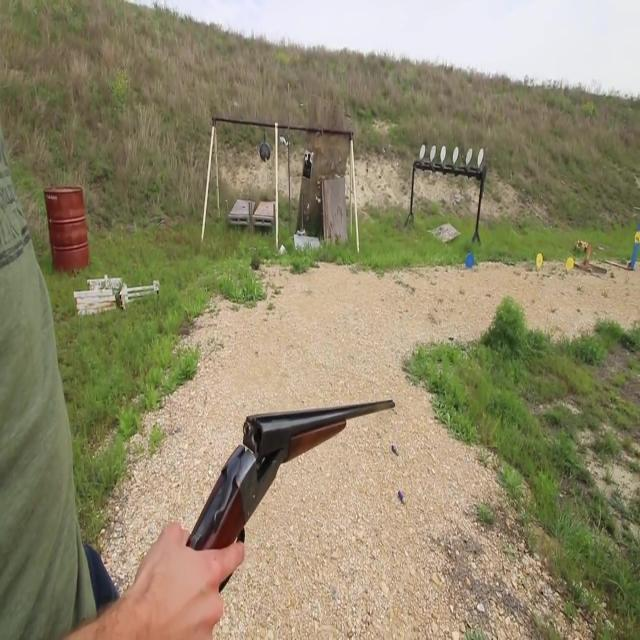Weapon: (147, 332, 426, 616)
